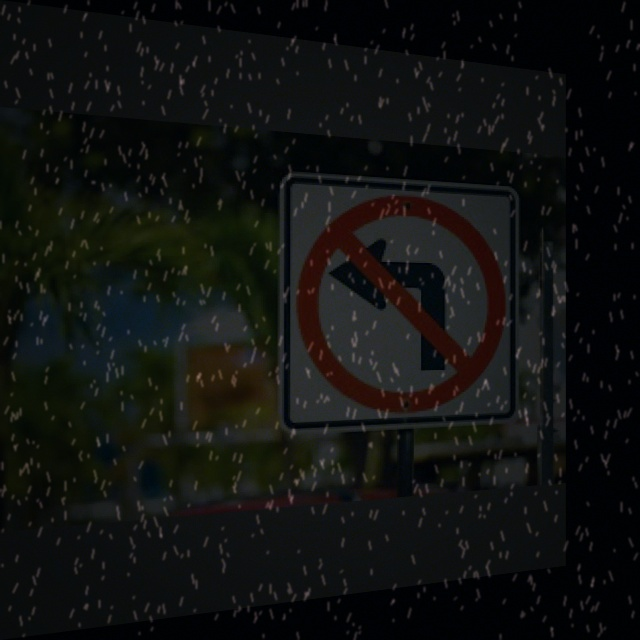Left_Turn_Prohibited: (296, 187, 510, 424)
